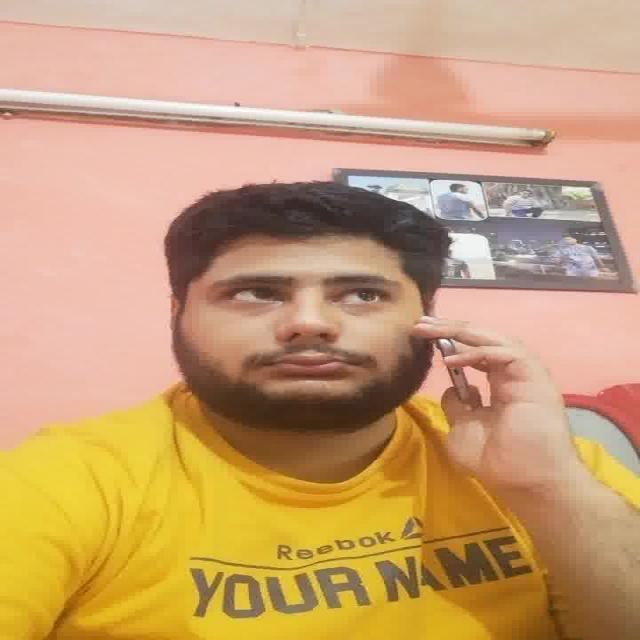Phone: (436, 336, 474, 406)
